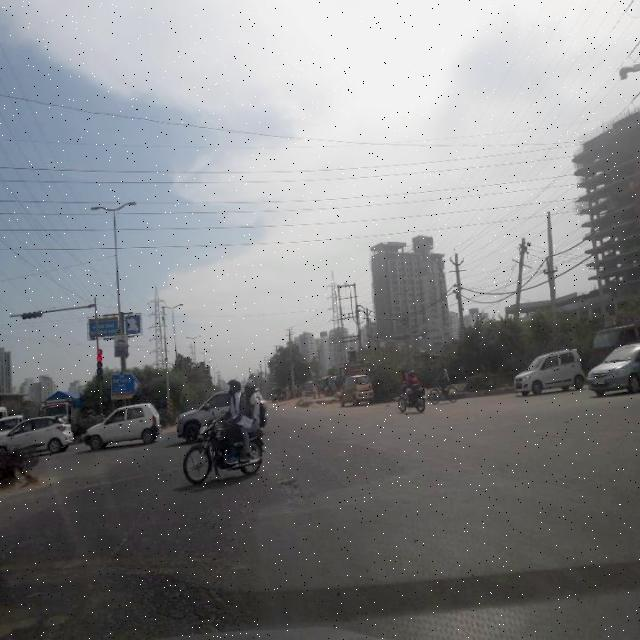D00: (56, 476, 152, 634)
D20: (13, 470, 289, 630)
D40: (276, 476, 306, 494)
